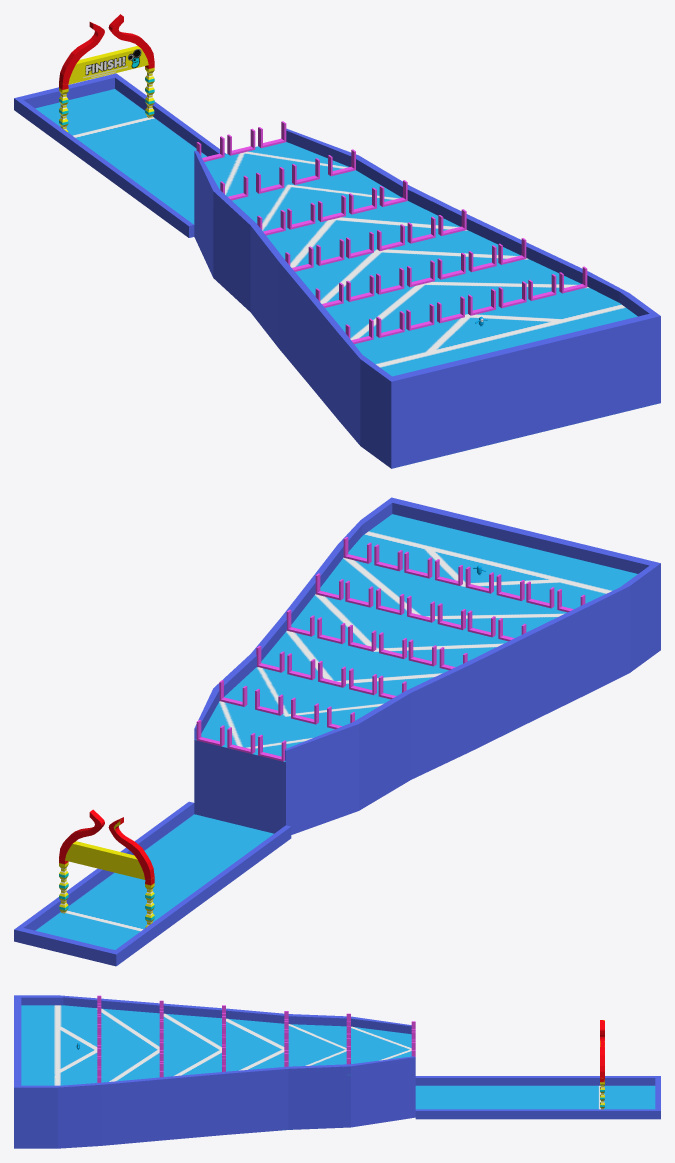
The model's file is Wall Smash Level.fbx.
3 renders of one model, top to bottom at view 1: azimuth 30°, elevation 25°; view 2: azimuth 150°, elevation 25°; view 3: azimuth 270°, elevation 25°, orthographic. The views are drawn at different scales.
Parts seen in each view (by area): view 1: Level Ground.001, Level Ground.003, Cube.001; view 2: Level Ground.001, Cube.001, Level Ground.003; view 3: Level Ground.003, Level Ground.001, Cube.001.
Part boxes in pixels (x1,y1,x2,y2): Level Ground.001: (14,73,660,467); Level Ground.003: (14,78,660,468); Cube.001: (59,14,154,132); Level Ground.001: (14,497,660,965); Cube.001: (59,809,154,927); Level Ground.003: (14,533,660,966); Level Ground.003: (14,997,660,1148); Level Ground.001: (14,995,660,1111); Cube.001: (600,1020,604,1109).
Size of the model in its own units: 26.26 by 10.24 by 77.77.
